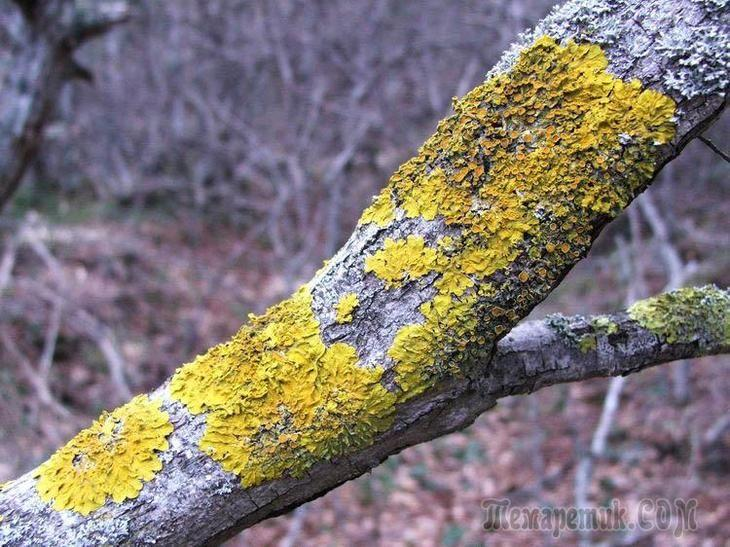lichen: (356, 41, 680, 394), (171, 285, 397, 486), (36, 395, 172, 515)
